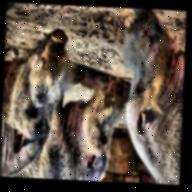boar: (0, 68, 132, 186), (112, 7, 192, 187), (0, 25, 80, 182)
